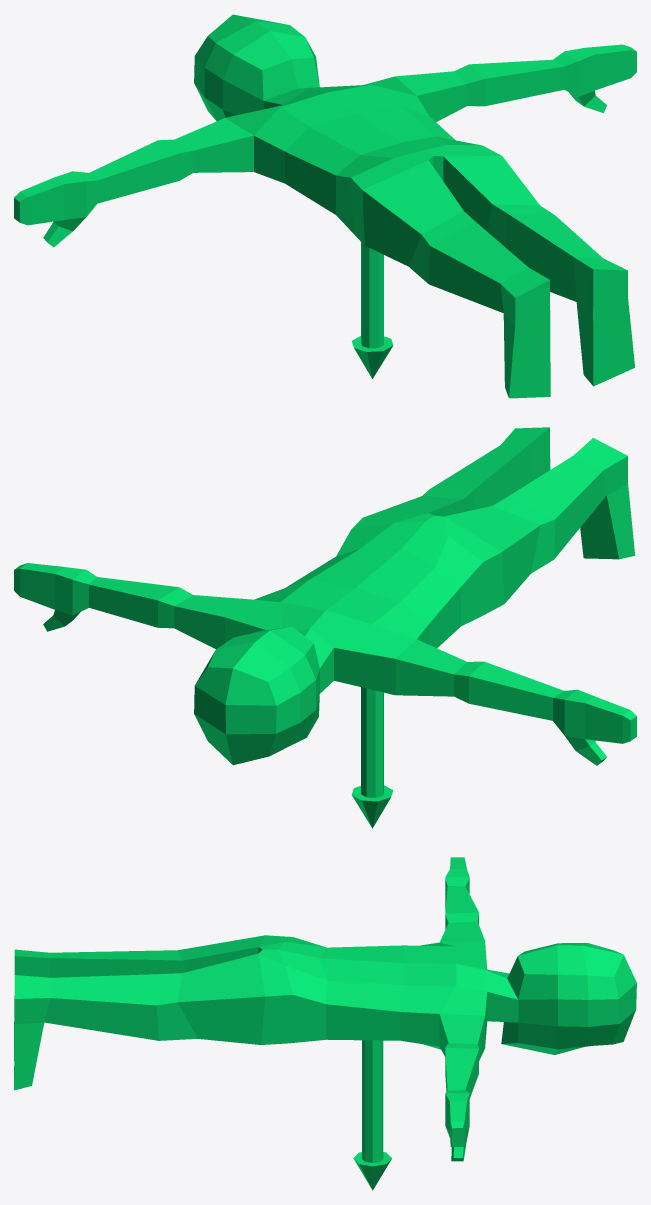
File: SM_PlayerStart.fbx
3 renders of one model, top to bottom at view 1: azimuth 30°, elevation 25°; view 2: azimuth 150°, elevation 25°; view 3: azimuth 270°, elevation 25°, orthographic. The views are drawn at different scales.
Parts seen in each view (by area): view 1: TPPModel; view 2: TPPModel; view 3: TPPModel.
Part boxes in pixels (left/top/right/bottom): TPPModel: left=14, top=14, right=636, bottom=398; TPPModel: left=14, top=427, right=636, bottom=828; TPPModel: left=14, top=857, right=636, bottom=1190.
Size of the model in its own units: 305 by 129 by 297.
